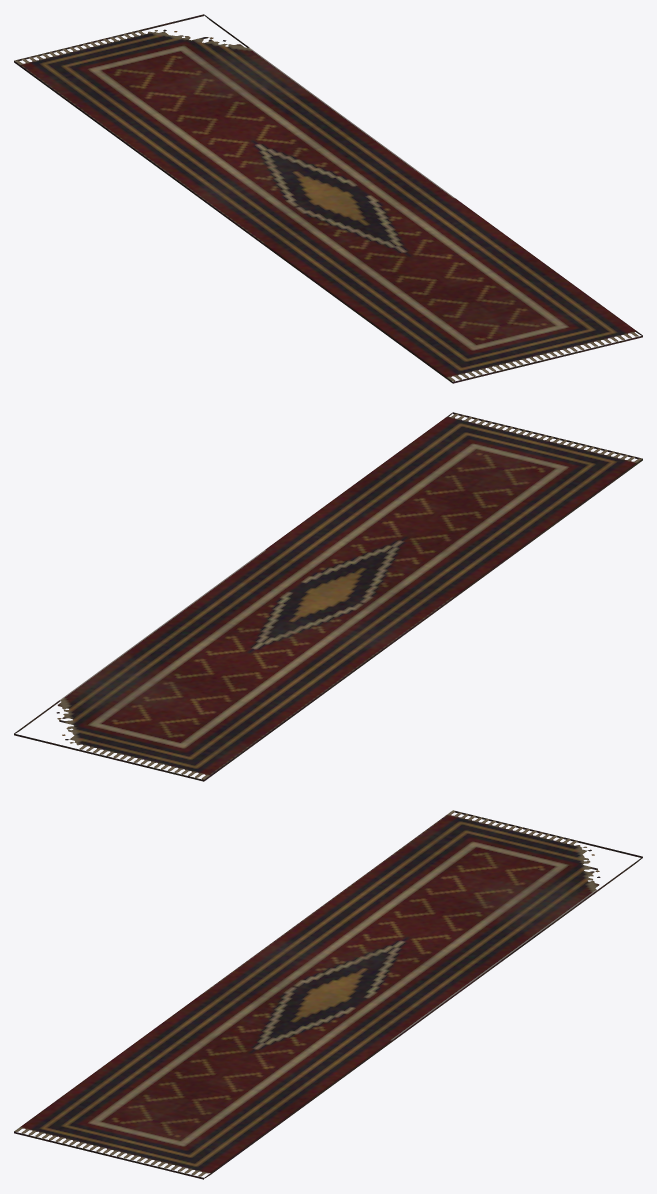
The model's file is Atmos_Rug_Runner.fbx.
3 renders of one model, top to bottom at view 1: azimuth 30°, elevation 25°; view 2: azimuth 150°, elevation 25°; view 3: azimuth 330°, elevation 25°, orthographic.
Visible parts, largest first — view 1: Atmos_Rug_Runner; view 2: Atmos_Rug_Runner; view 3: Atmos_Rug_Runner.
Part boxes in pixels (<box>): Atmos_Rug_Runner: <box>14,14,642,383</box>; Atmos_Rug_Runner: <box>14,412,642,781</box>; Atmos_Rug_Runner: <box>14,810,642,1179</box>.
Bounding box in the file's own units: 90 × 0.8 × 360.
Materials: 1 (1 with a texture image).
